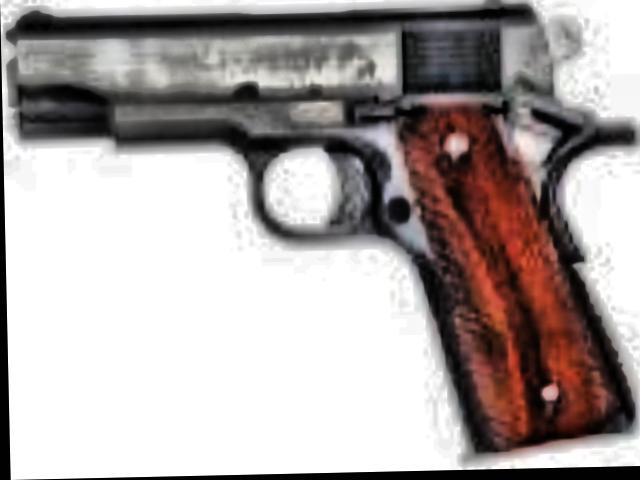pistol: (0, 0, 632, 472)
